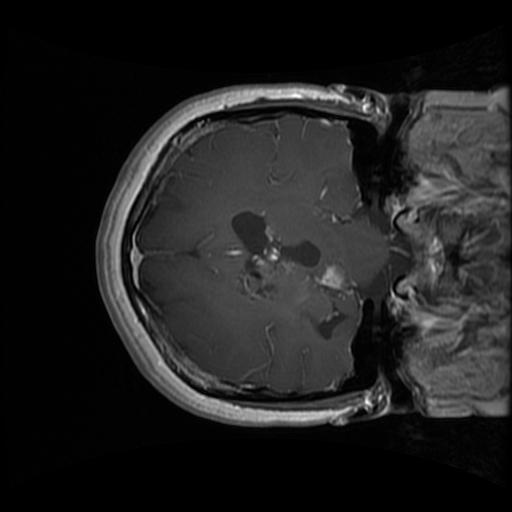glioma: (231, 209, 316, 301)
